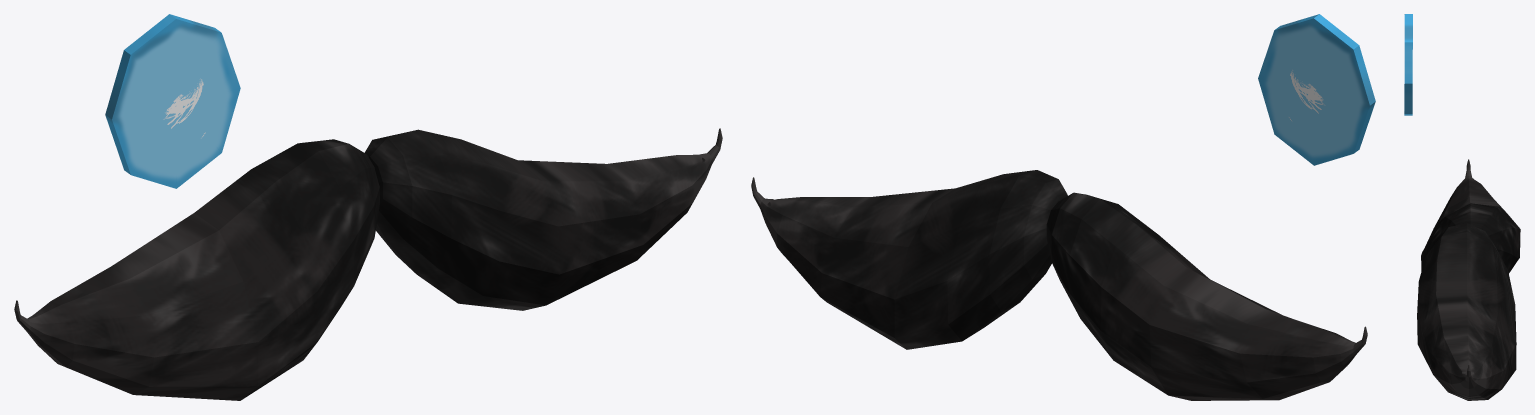
The model's file is Mustache.fbx.
3 renders of one model, left to right at view 1: azimuth 30°, elevation 25°; view 2: azimuth 150°, elevation 25°; view 3: azimuth 270°, elevation 25°, orthographic. The views are drawn at different scales.
Visible parts, largest first — view 1: Mustache, Glass; view 2: Mustache, Glass; view 3: Mustache, Glass.
Part boxes in pixels (<box>): Mustache: <box>14,128,722,400</box>; Glass: <box>105,14,240,188</box>; Mustache: <box>751,170,1367,400</box>; Glass: <box>1258,14,1375,165</box>; Mustache: <box>1417,159,1520,400</box>; Glass: <box>1404,14,1412,115</box>.
Size of the model in its own units: 0.9049 by 0.5223 by 0.2148.
2 materials, 2 textured.
